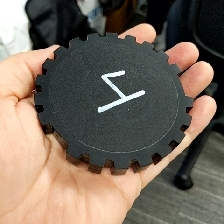gear: (33, 31, 195, 177)
missing: (38, 111, 82, 167), (167, 63, 195, 110)
